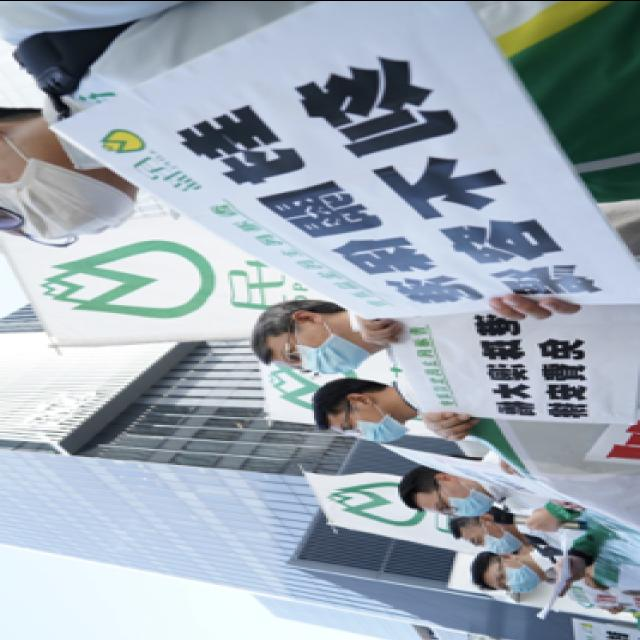with_mask: (0, 156, 136, 238), (273, 326, 369, 374), (336, 406, 408, 444), (429, 484, 494, 518), (487, 560, 539, 594), (465, 524, 520, 554)
